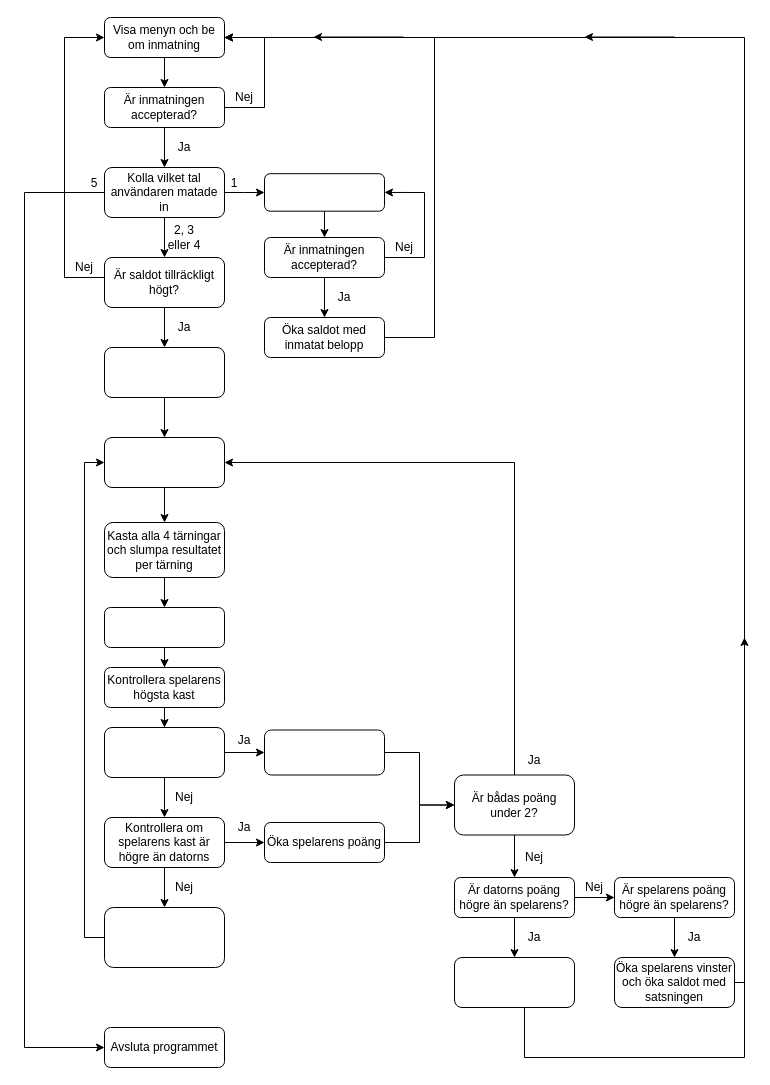
Image size: 770x1085. Some labels were removed from this diagram. The box of each missing label's shape, as (x1, y1, x2, y2) in pixels:
Be om inmatning: (264, 173, 384, 211)
Kasten är lika, gör ingenting: (104, 906, 224, 968)
Kontrollera datorns högsta kast: (104, 606, 224, 648)
Kontrollera om datorns kast är högre än spelarens: (104, 726, 224, 778)
Nollställ variablerna som håller koll på poängen: (104, 346, 224, 398)
While loop så länge bådas poäng är under 2: (104, 436, 224, 488)
Öka datorns poäng: (264, 729, 384, 775)
Öka datorns vinster och minska spelarens saldo med satsningen: (454, 956, 574, 1008)
